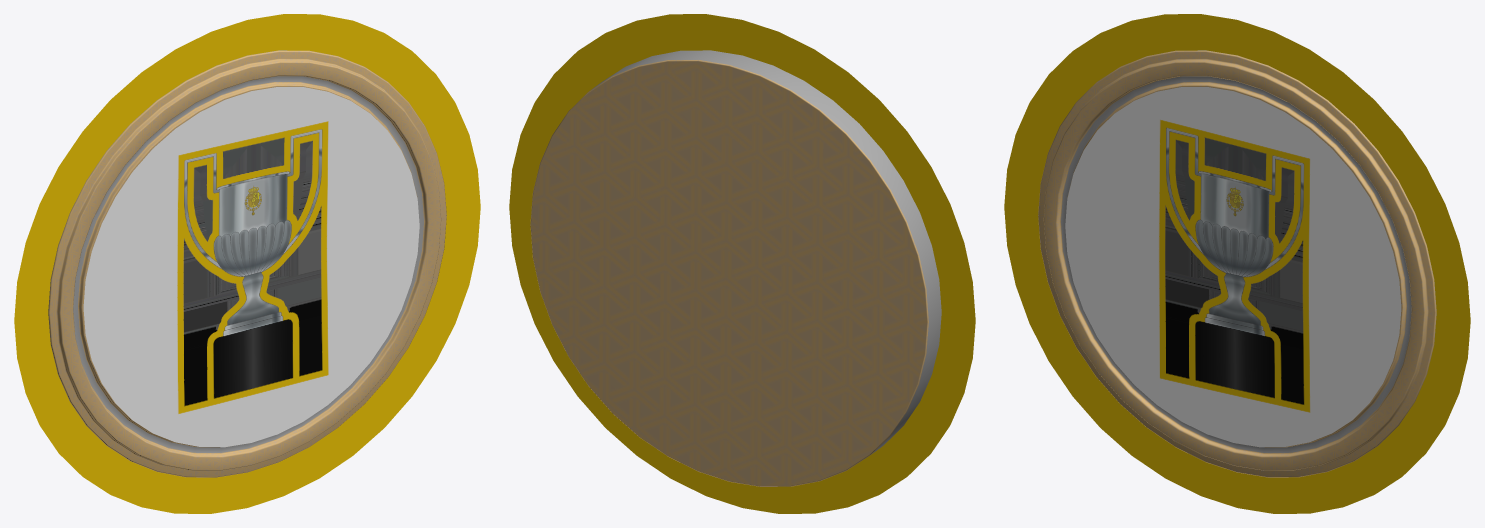
File: Coin_New.fbx
The picture shows the model from 3 angles, left to right: view 1: azimuth 30°, elevation 25°; view 2: azimuth 150°, elevation 25°; view 3: azimuth 330°, elevation 25°; orthographic projection.
Visible parts, largest first — view 1: Coin_Img, Glow, Coin; view 2: Coin, Glow; view 3: Coin_Img, Glow, Coin.
Boxes of the visible parts, <box> form: Coin_Img: <box>83,87,419,447</box>; Glow: <box>14,14,480,513</box>; Coin: <box>48,50,446,477</box>; Coin: <box>530,50,941,486</box>; Glow: <box>509,14,975,513</box>; Coin_Img: <box>1065,87,1401,447</box>; Glow: <box>1004,14,1470,513</box>; Coin: <box>1038,50,1436,477</box>.
Bounding box in the file's own units: 9.42 × 9.42 × 0.617.
5 materials, 3 textured.
